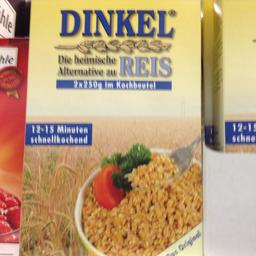rice: (18, 0, 204, 254)
